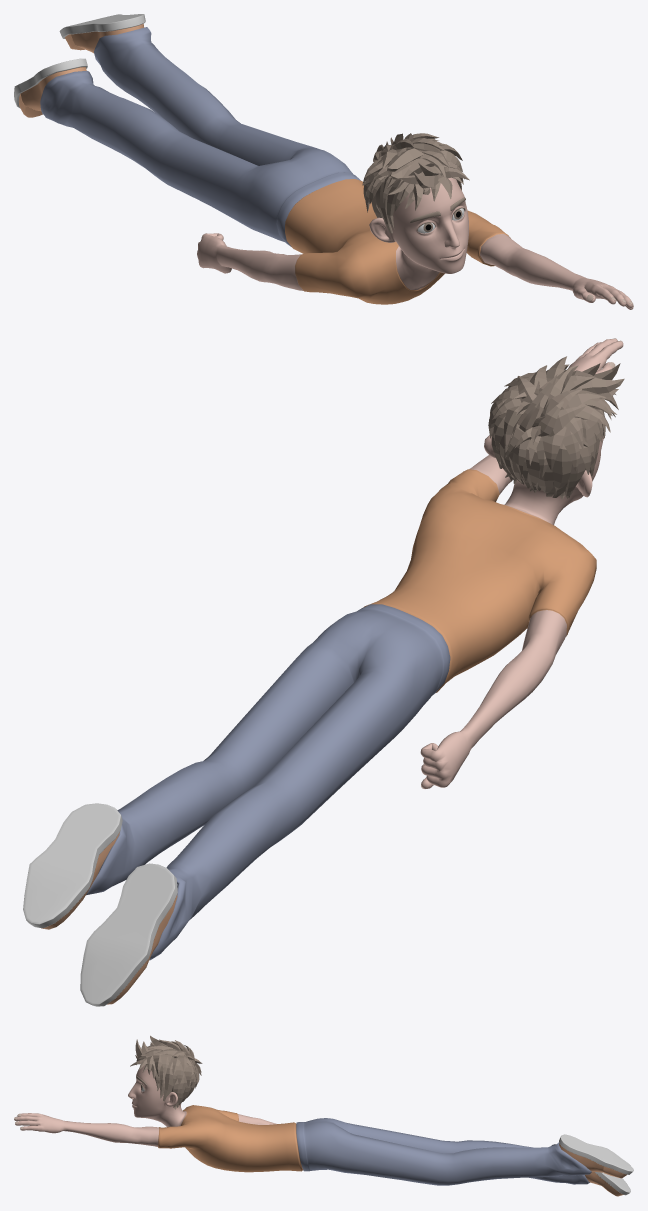
File: Swim_pose.fbx
3 views of the same model, one above another, from view 1: azimuth 30°, elevation 25°; view 2: azimuth 150°, elevation 25°; view 3: azimuth 270°, elevation 25° (orthographic). The views are drawn at different scales.
Visible parts, largest first — view 1: RayGEO, hairGEO, Lf_shoe, Rt_shoe; view 2: RayGEO, hairGEO, Rt_shoe, Lf_shoe; view 3: RayGEO, hairGEO, Lf_shoe, Rt_shoe.
Boxes of the visible parts, bbox=[...] form: RayGEO: bbox=[40, 27, 633, 309]; hairGEO: bbox=[362, 133, 469, 233]; Lf_shoe: bbox=[59, 14, 145, 53]; Rt_shoe: bbox=[14, 58, 87, 117]; RayGEO: bbox=[86, 339, 623, 960]; hairGEO: bbox=[488, 356, 624, 499]; Rt_shoe: bbox=[80, 863, 177, 1006]; Lf_shoe: bbox=[23, 803, 122, 929]; RayGEO: bbox=[14, 1065, 591, 1185]; hairGEO: bbox=[130, 1035, 202, 1109]; Lf_shoe: bbox=[559, 1134, 633, 1178]; Rt_shoe: bbox=[585, 1172, 630, 1196].
Size of the model in its own units: 4.16 by 6.12 by 22.37.
